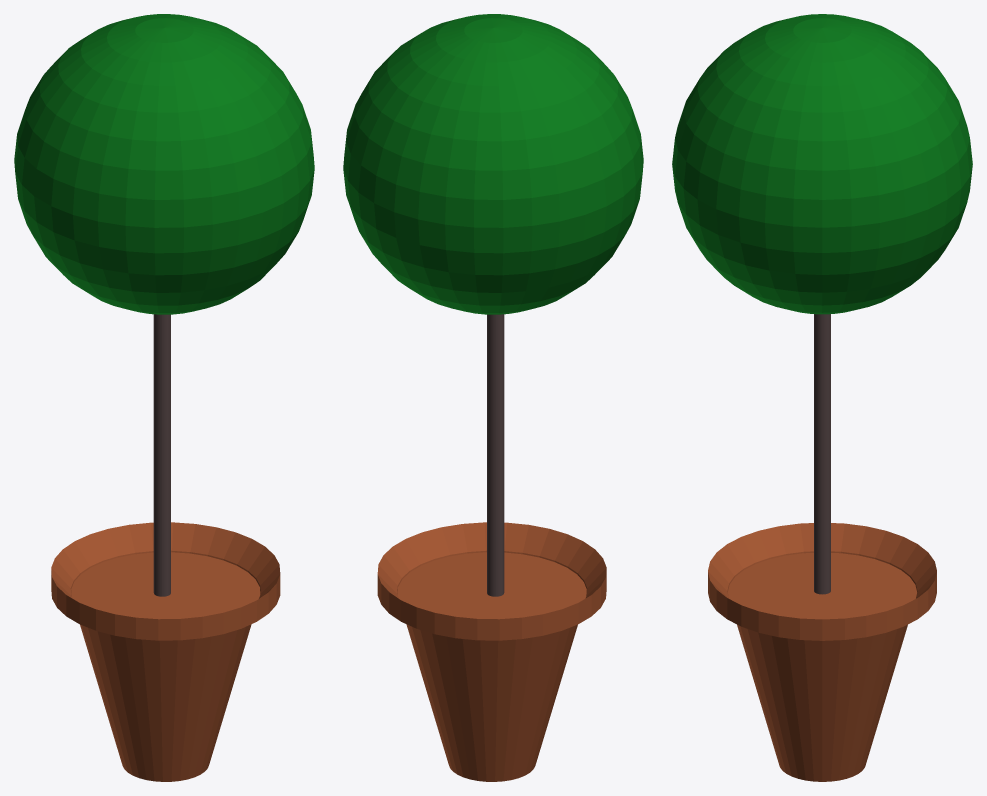
File: plant.glb
3 views of the same model, side by side, from view 1: azimuth 30°, elevation 25°; view 2: azimuth 150°, elevation 25°; view 3: azimuth 270°, elevation 25° (orthographic).
Visible parts, largest first — view 1: plantleaves, plantpot, plantstem; view 2: plantleaves, plantpot, plantstem; view 3: plantleaves, plantpot, plantstem.
Boxes of the visible parts, x1,y1,x2,y2 form: plantleaves: (14,14,314,314); plantpot: (51,522,280,781); plantstem: (153,314,170,596); plantleaves: (343,14,643,314); plantpot: (377,522,606,781); plantstem: (487,314,504,596); plantleaves: (672,14,972,314); plantpot: (708,523,936,781); plantstem: (814,314,830,594).
Bounding box in the file's own units: 1.08 × 2.92 × 1.08.
